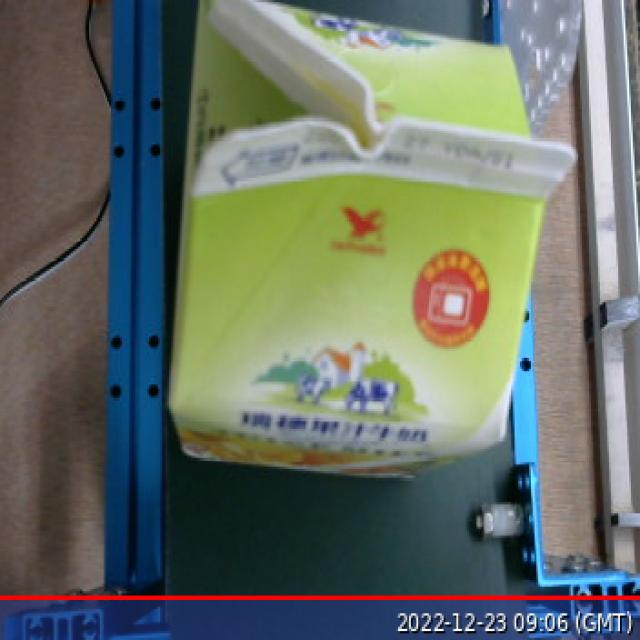non_white_jug: (169, 0, 558, 492)
